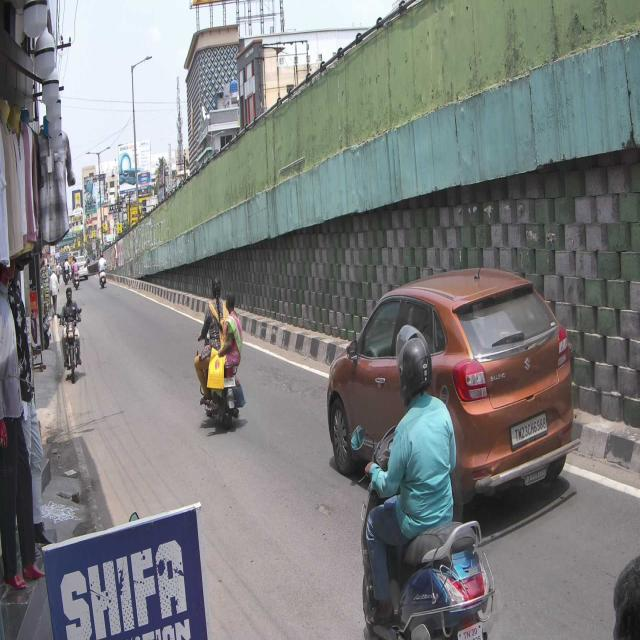double_rider: (195, 276, 246, 432)
single_rider: (354, 326, 491, 640)
